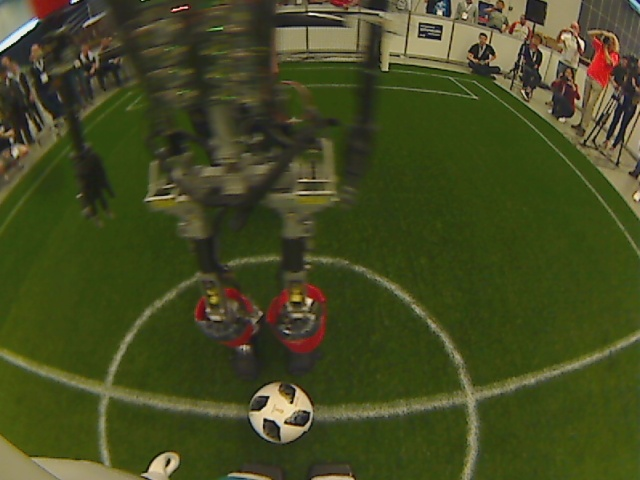ball: (245, 378, 317, 447)
